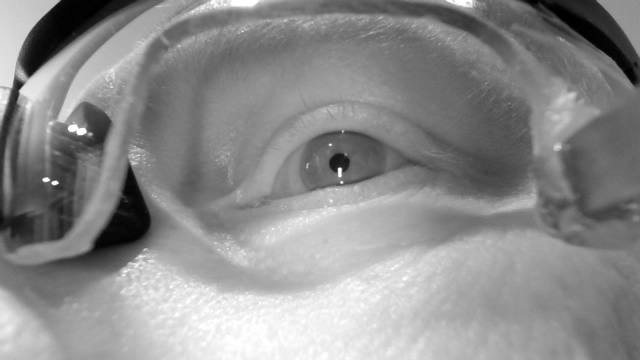pupil: (328, 152, 351, 174)
